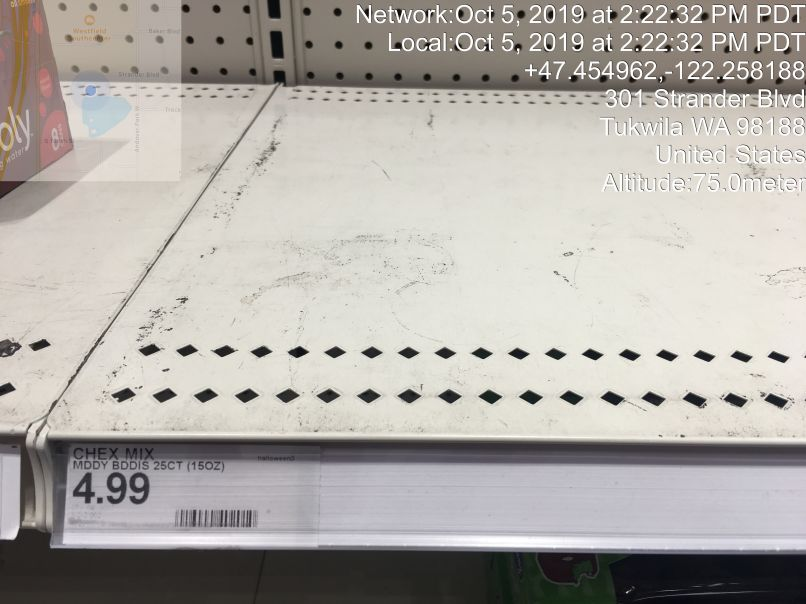Label: (61, 428, 330, 561)
Location: (595, 83, 806, 169)
Time: (351, 3, 806, 55)
Void: (74, 21, 798, 406)
